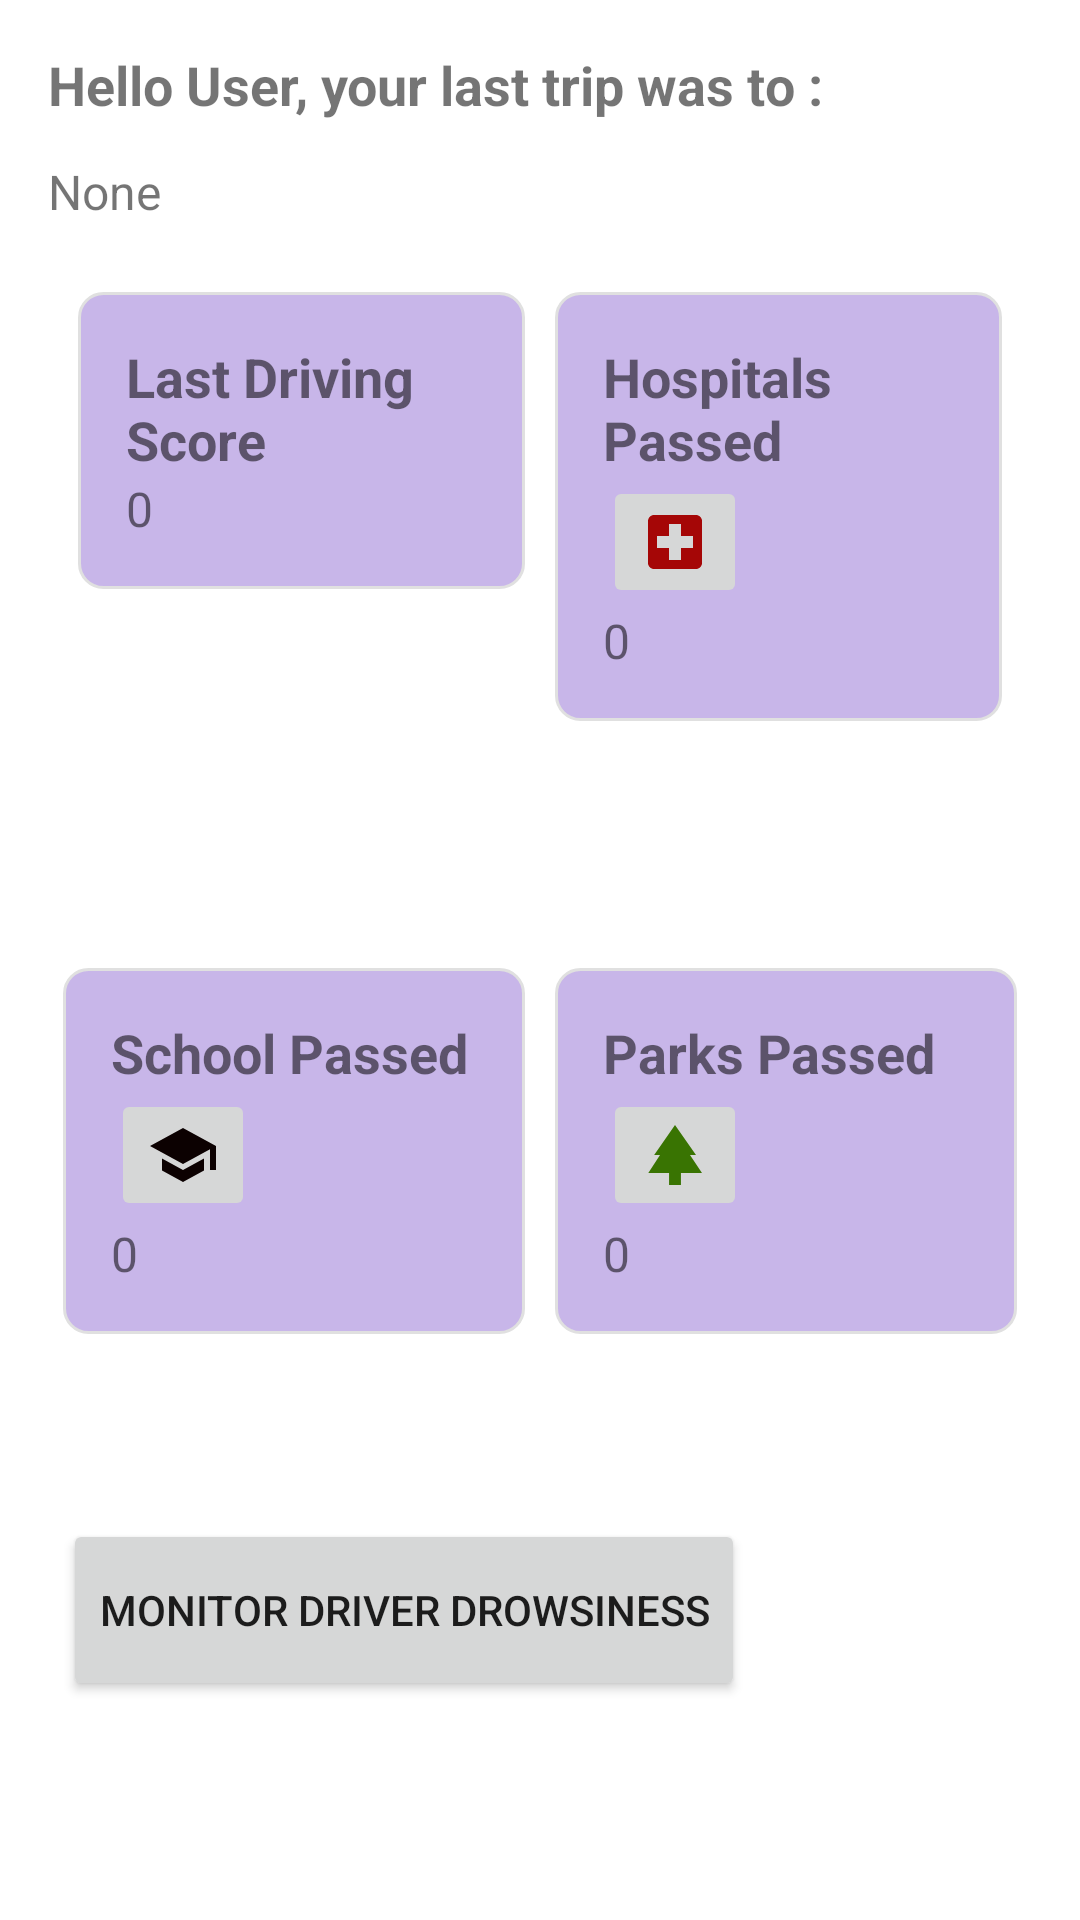

Where to tap for icons on this 1080px×1920px app screen, as (x,y):
local hospital: (675,542)
